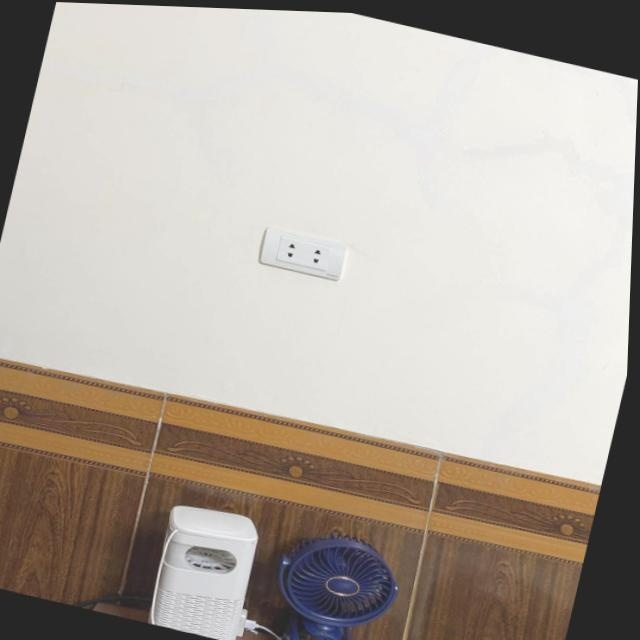outlet: (256, 224, 349, 283)
